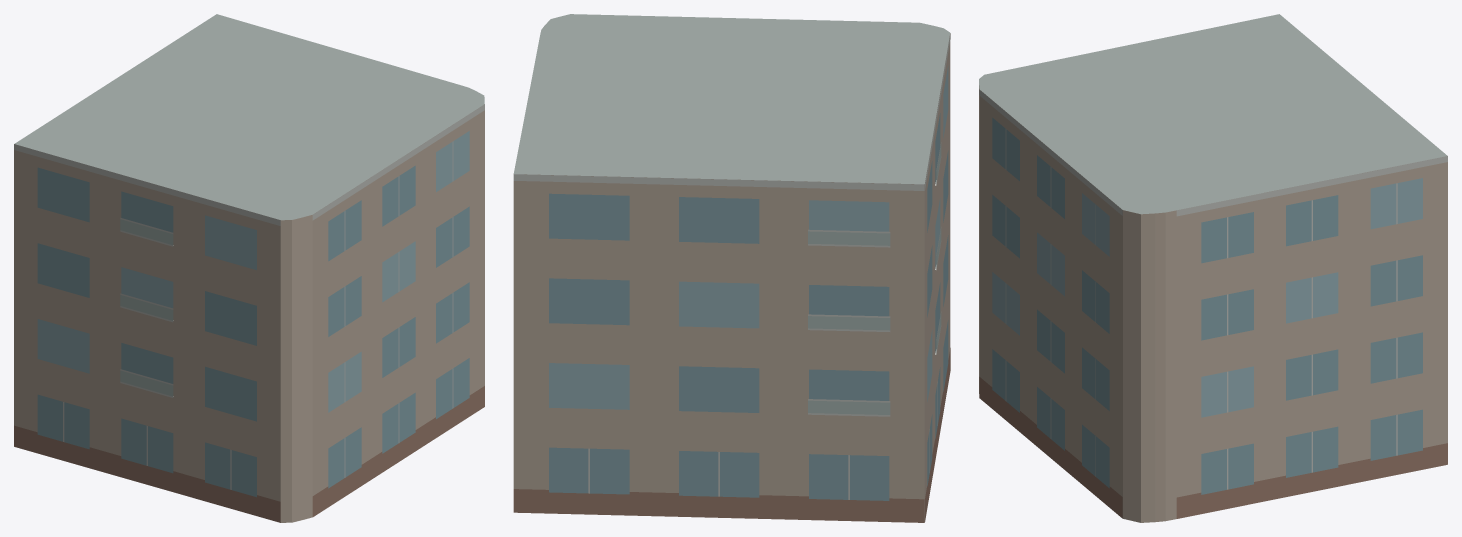
The model's file is survey-upis-32620430.glb.
The picture shows the model from 3 angles, left to right: view 1: azimuth 30°, elevation 25°; view 2: azimuth 150°, elevation 25°; view 3: azimuth 270°, elevation 25°; orthographic projection. The views are drawn at different scales.
Parts seen in each view (by area): view 1: survey-upis-32620430.tmp; view 2: survey-upis-32620430.tmp; view 3: survey-upis-32620430.tmp.
Boxes of the visible parts, bbox=[...] form: survey-upis-32620430.tmp: bbox=[14, 14, 484, 522]; survey-upis-32620430.tmp: bbox=[513, 14, 950, 522]; survey-upis-32620430.tmp: bbox=[979, 14, 1447, 522].
Bounding box in the file's own units: 17.11 × 12.3 × 16.93.
